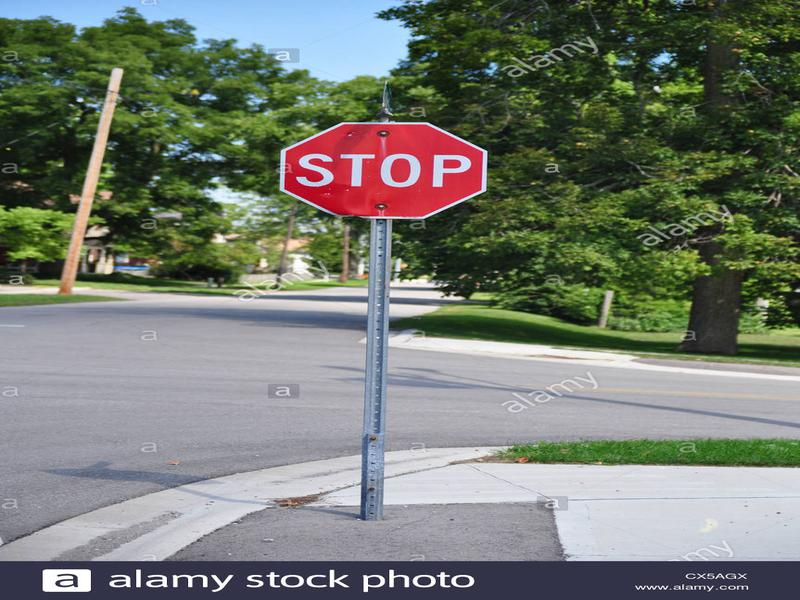stop: (278, 117, 493, 219)
